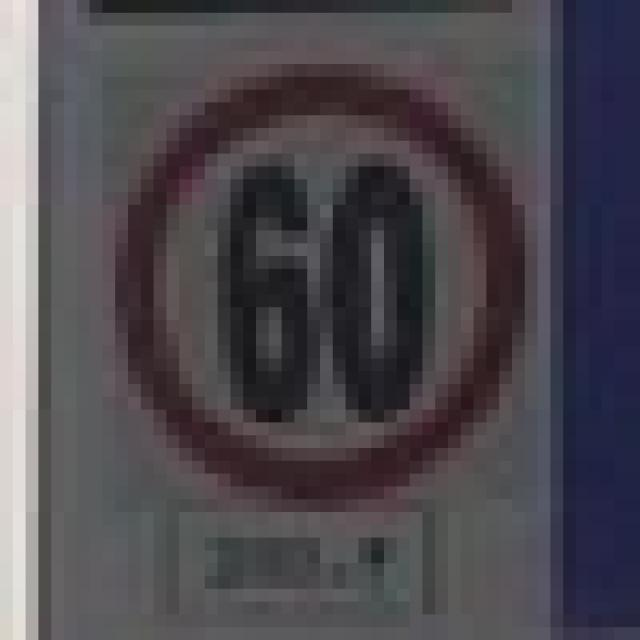SPEED_LIMIT_60: (102, 51, 512, 486)
